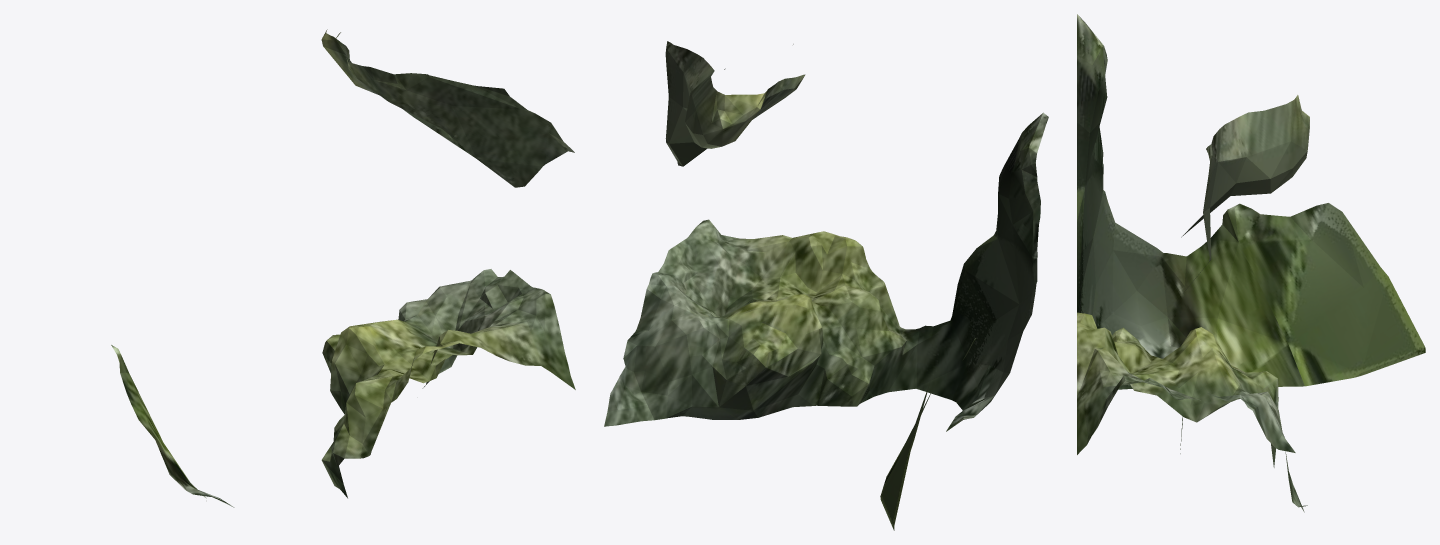
The picture shows the model from 3 angles, left to right: view 1: azimuth 30°, elevation 25°; view 2: azimuth 150°, elevation 25°; view 3: azimuth 270°, elevation 25°; orthographic projection. The views are drawn at different scales.
Bounding box in the file's own units: 5.9 × 5.9 × 4.88.
Materials: 3 (3 with a texture image).
